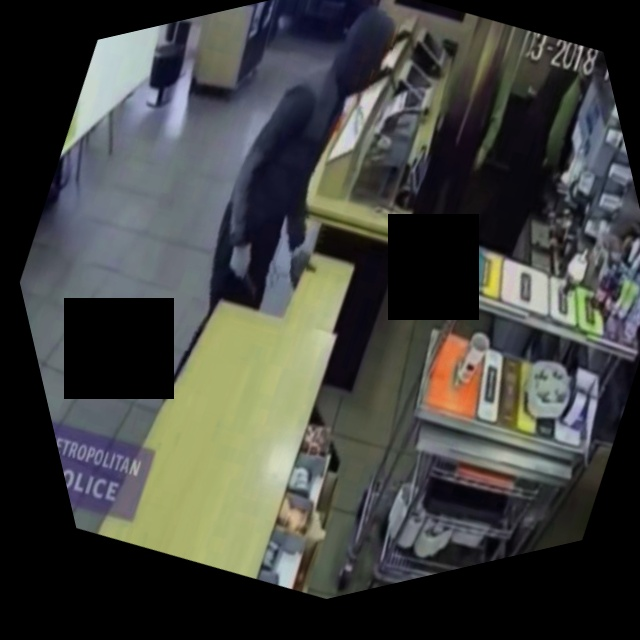gun: (221, 255, 275, 306)
